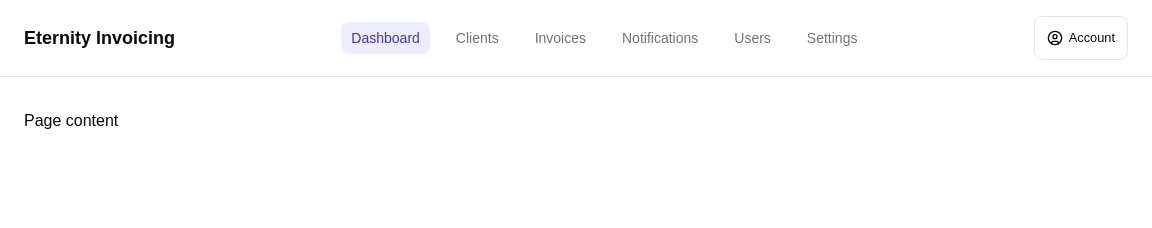
Test case: AppShell's BusinessSwitcher › displays an Owner-role other membership as "Admin", never the raw "Owner" string
The width and height of the screenshot is (1152, 228).
Click the button "Account" at (1081, 38), box [1034,16,1128,60]
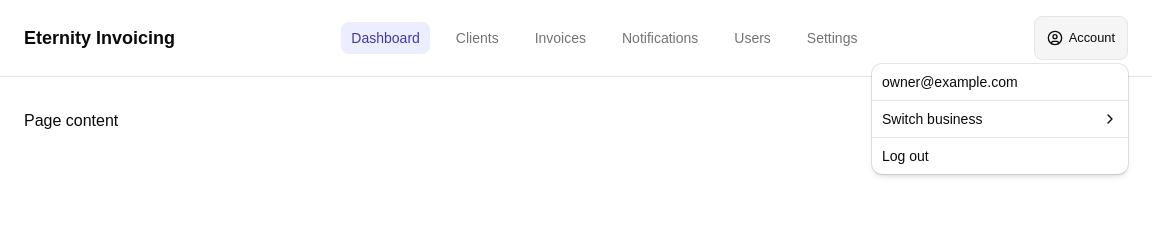
Click the menu item "Switch business" at (932, 119), box [882,111,1118,127]
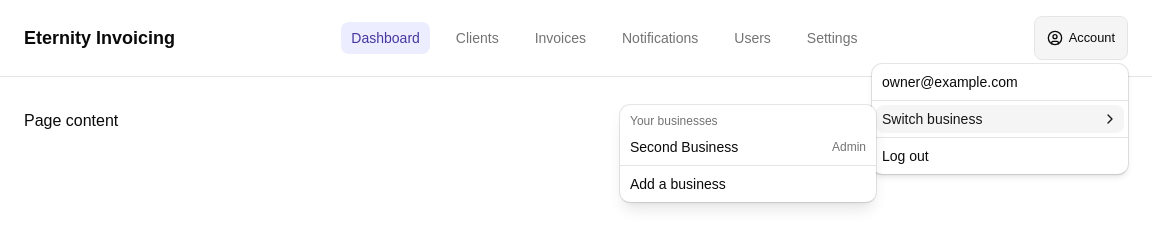
Check: the text "Second Business" is shown, box [630,137,738,157]
Check: the text "Admin" is shown, box [832,139,866,155]
